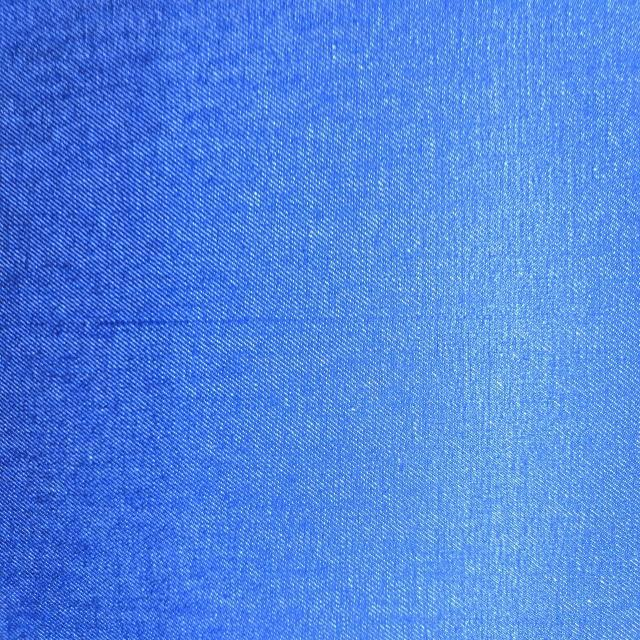Line: (1, 306, 579, 330)
